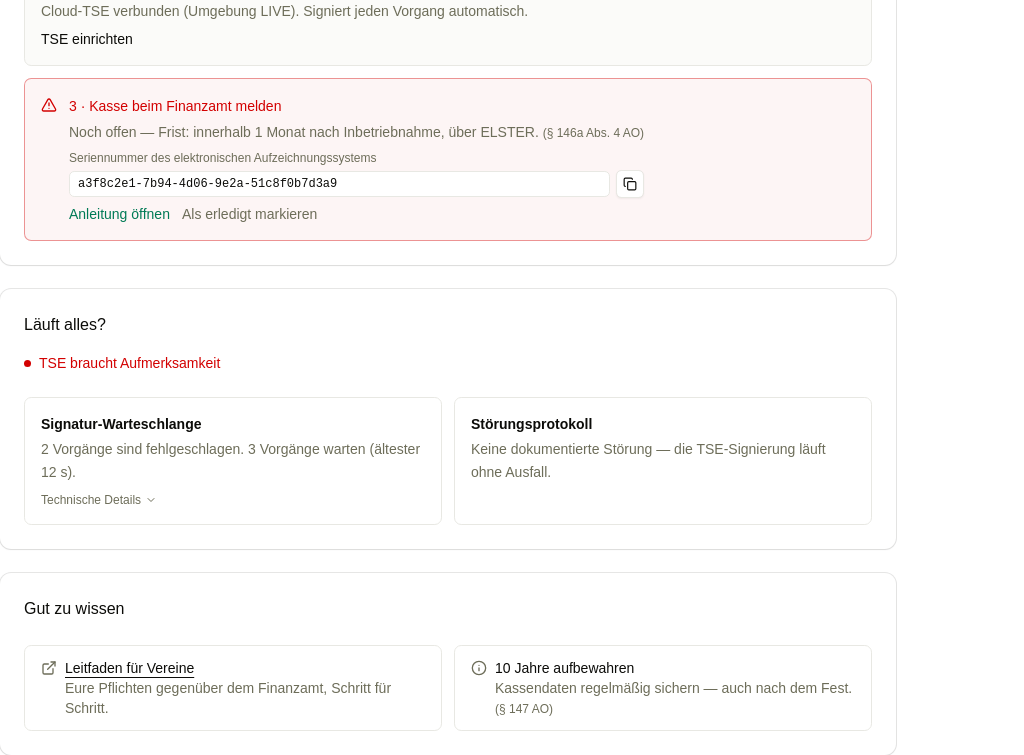
Test case: FinanzamtPage — Signatur-Warteschlange › führt Fehler-Zähler und letzten Fehlertext in den Roh-Metriken
(page scrolled)
Click the button "Technische Details". click: x=99, y=500
box: [41, 492, 157, 508]
(page scrolled)
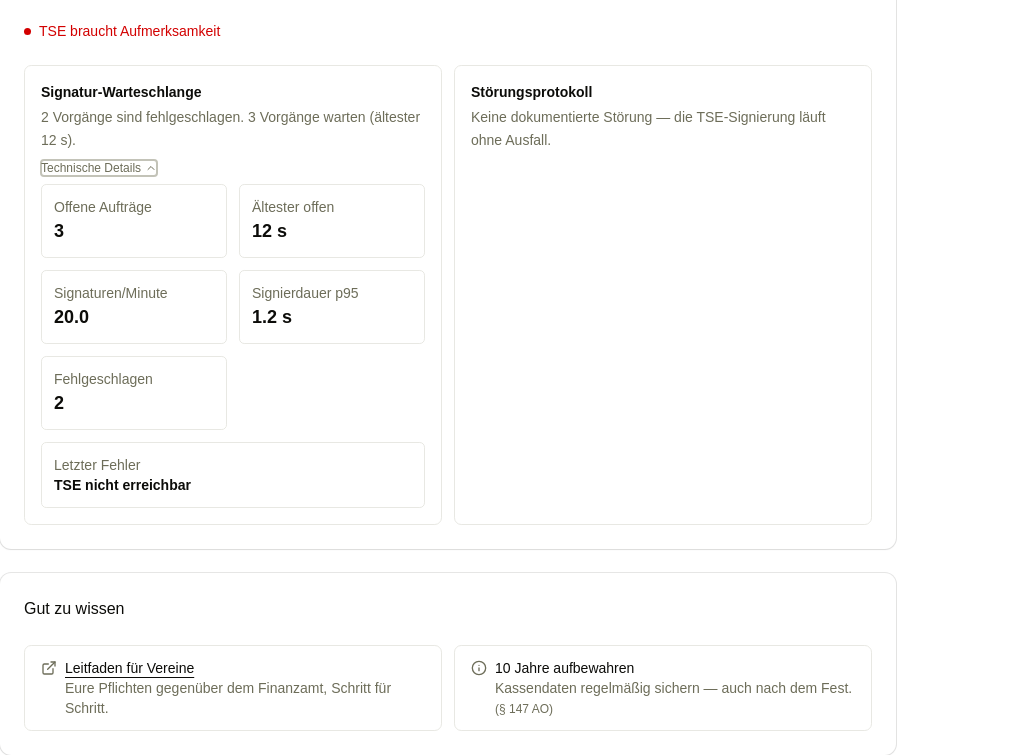
Now the text "Fehlgeschlagen" is shown, box [54, 370, 153, 386]
Now the text "Letzter Fehler" is shown, box [54, 456, 140, 472]
Now the text "TSE nicht erreichbar" is shown, box [54, 476, 191, 492]
